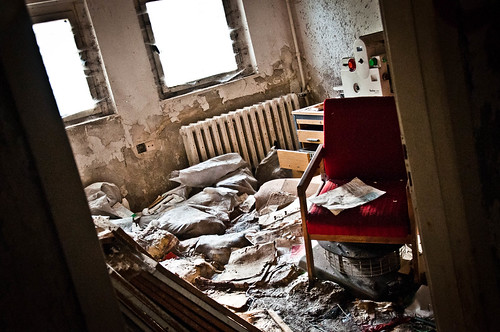chair: (295, 98, 426, 278)
trash: (87, 150, 446, 332)
window: (141, 1, 248, 100), (31, 1, 103, 124)
